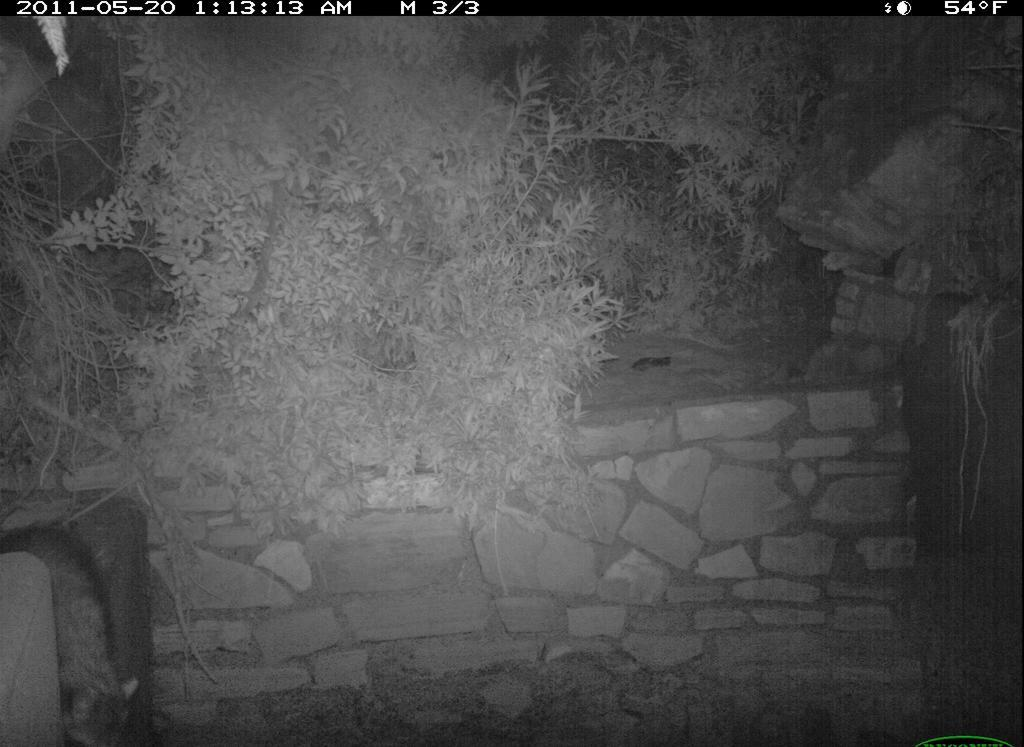raccoon: (3, 492, 150, 747)
